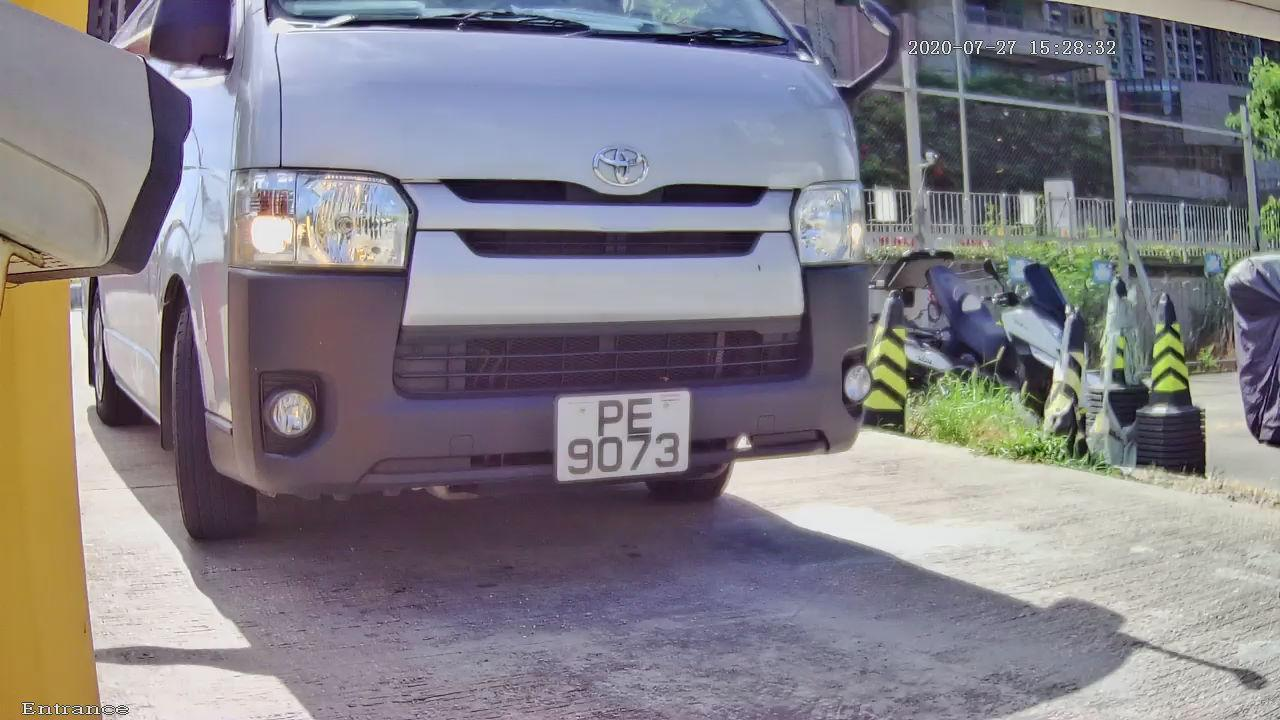privatecar: (81, 10, 961, 576)
